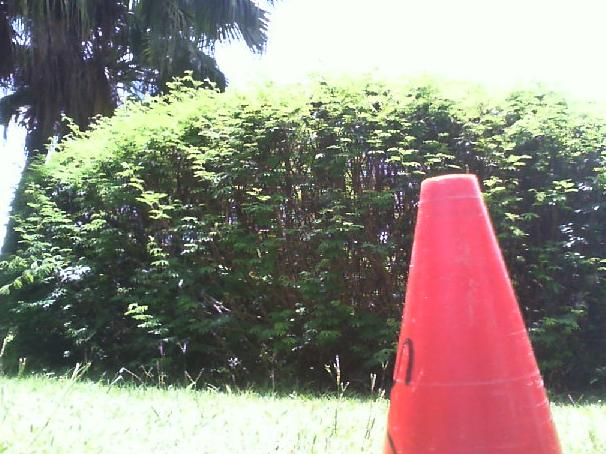0 cone: (381, 173, 571, 454)
